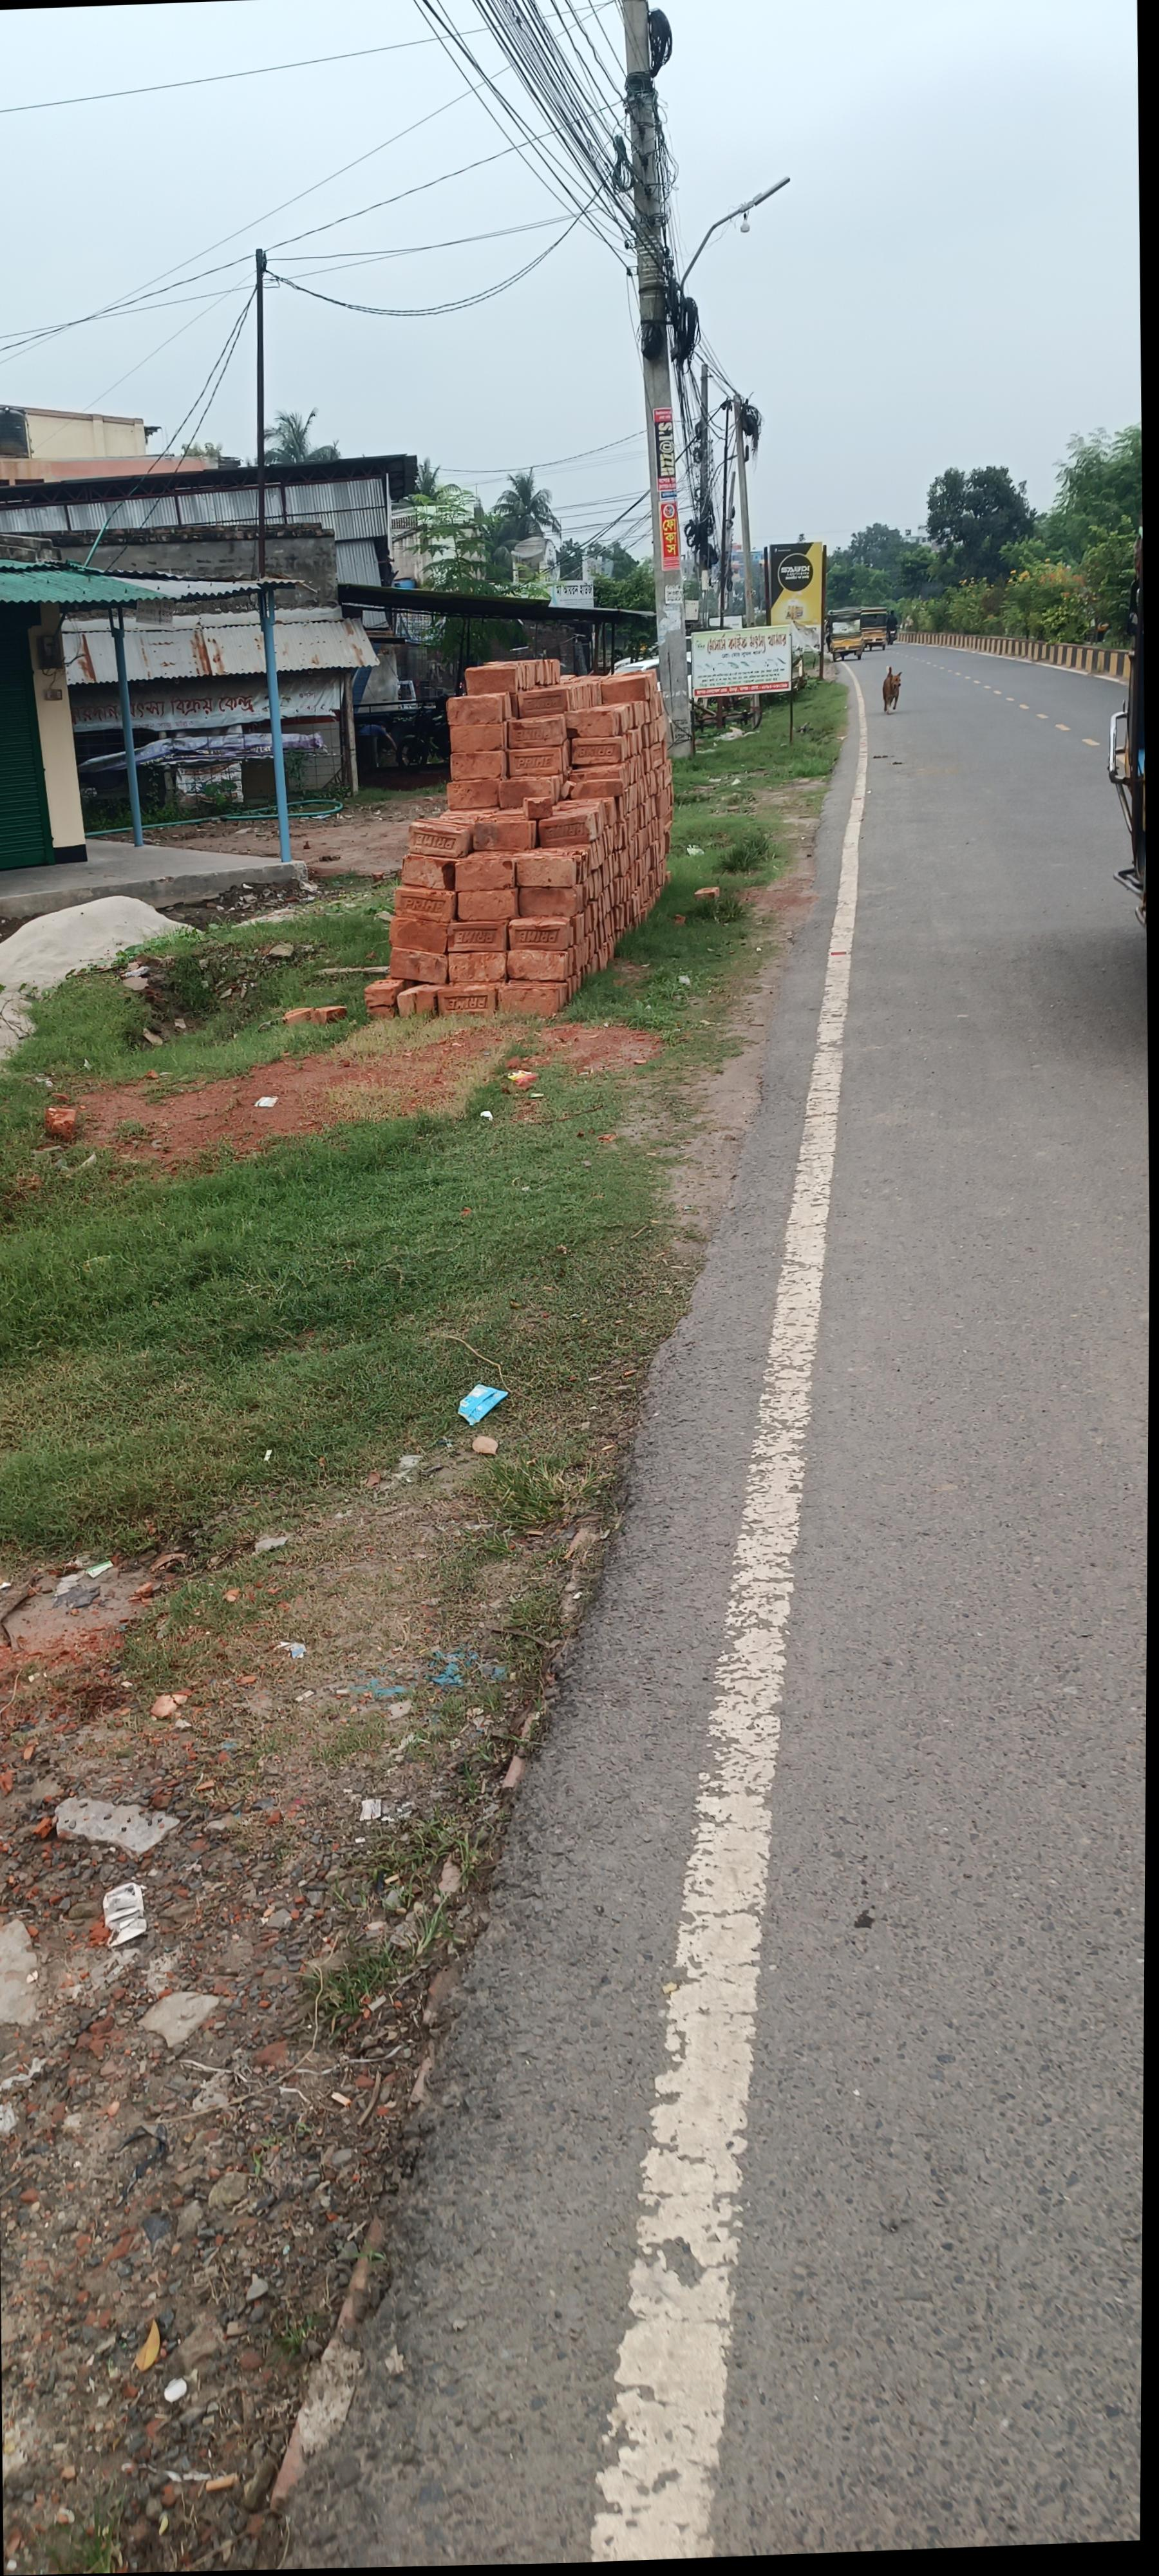Garbage: (335, 662, 658, 1035)
Light-pole: (578, 33, 703, 687)
Traffic-cone: (806, 619, 877, 672)
